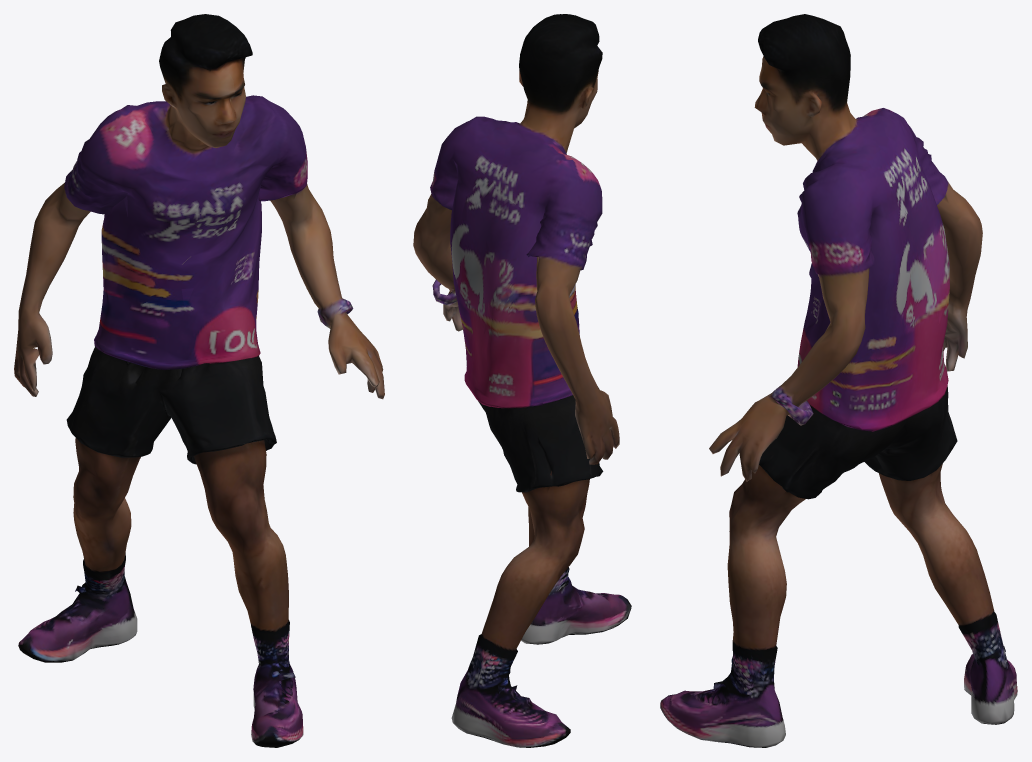
Rendered from 10_2_idle.glb.
3 views of the same model, side by side, from view 1: azimuth 30°, elevation 25°; view 2: azimuth 150°, elevation 25°; view 3: azimuth 270°, elevation 25° (orthographic). The views are drawn at different scales.
Visible parts, largest first — view 1: Idle; view 2: Idle; view 3: Idle.
Boxes of the visible parts, left/top/right/bottom form: Idle: left=14, top=14, right=384, bottom=747; Idle: left=413, top=14, right=631, bottom=747; Idle: left=660, top=14, right=1017, bottom=747.
Size of the model in its own units: 39.07 by 94.98 by 43.86.
Materials: 1 (1 with a texture image).
